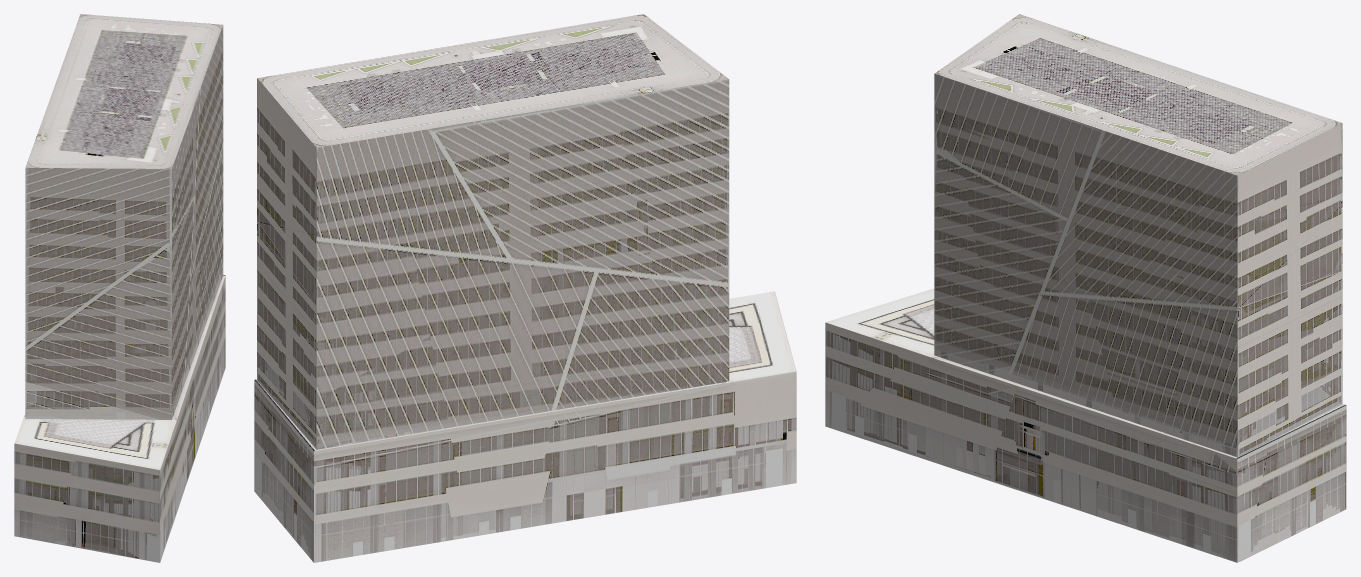
The model's file is 507RESINEW.glb.
3 views of the same model, side by side, from view 1: azimuth 30°, elevation 25°; view 2: azimuth 150°, elevation 25°; view 3: azimuth 270°, elevation 25° (orthographic). The views are drawn at different scales.
Parts seen in each view (by area): view 1: 507RESI.001; view 2: 507RESI.001; view 3: 507RESI.001.
Boxes of the visible parts, <box> form: 507RESI.001: <box>14,14,225,562</box>; 507RESI.001: <box>254,14,796,562</box>; 507RESI.001: <box>825,14,1346,562</box>.
Bounding box in the file's own units: 60.76 × 60.32 × 73.79.
1 material, 1 textured.
